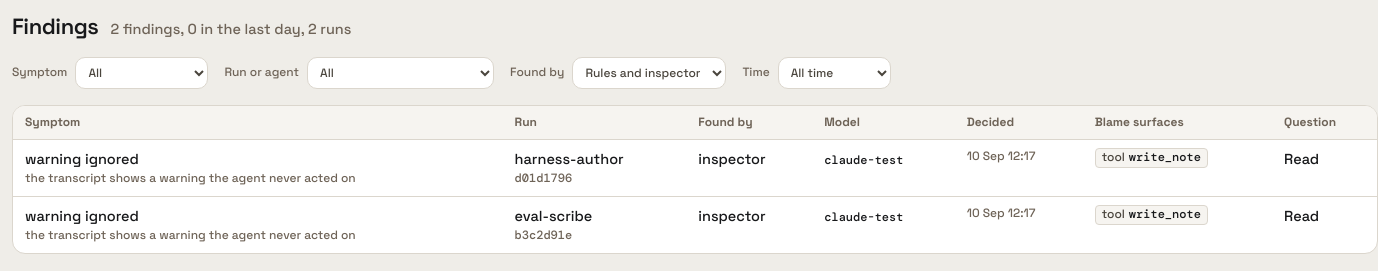
it: InspectionPage › offers every run of the list as agent and short id, and narrows by it
Select "eval-scribe b3c2d91e" in the dropdown labelled "Run or agent" at point(400, 73), box [307,57,494,89]
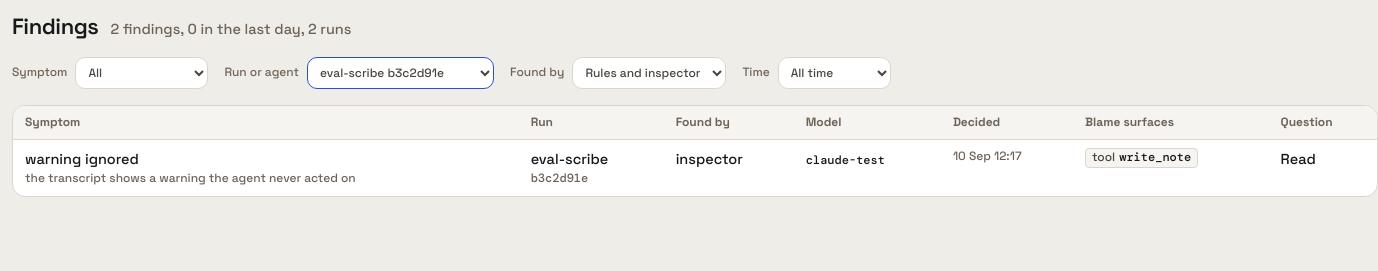
Check: the number of rows "warning ignored" is 1, box [13,140,1377,196]
